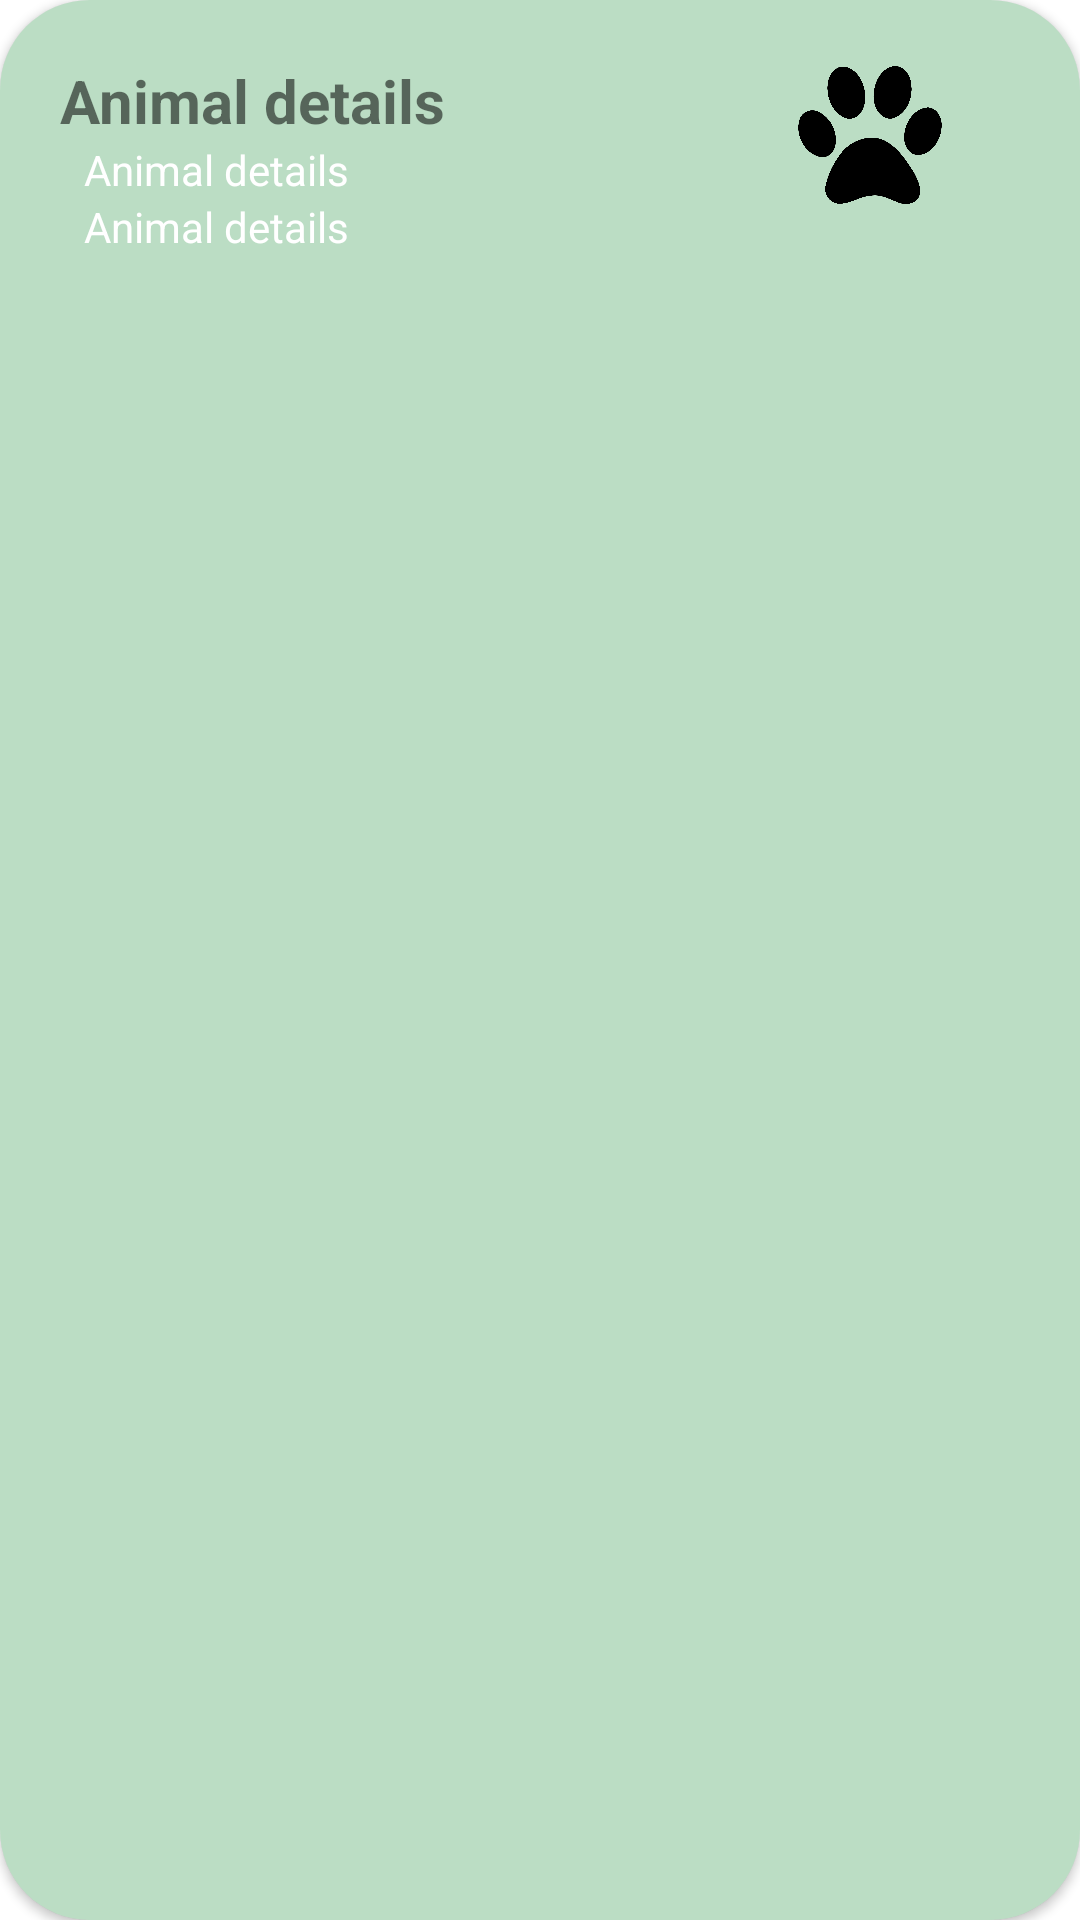

Locate icon controls on the screen. Image size 1080 × 1920, boxes as BBox(x1, y1, x2, y2).
paw: BBox(798, 66, 942, 204)
